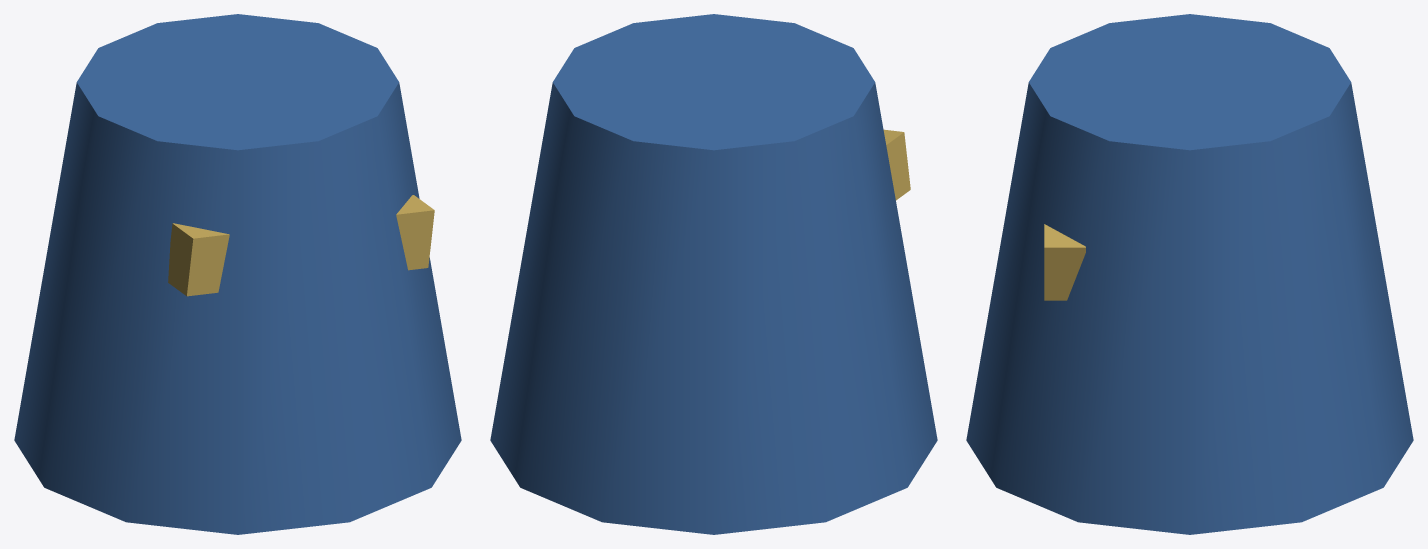
The model's file is stargazer_outfit.glb.
3 renders of one model, left to right at view 1: azimuth 30°, elevation 25°; view 2: azimuth 150°, elevation 25°; view 3: azimuth 270°, elevation 25°, orthographic.
Visible parts, largest first — view 1: outfit_torso, outfit_trim; view 2: outfit_torso, outfit_trim; view 3: outfit_torso, outfit_trim.
Boxes of the visible parts, x1=… form: outfit_torso: x1=14, y1=14, x2=461, y2=534; outfit_trim: x1=168, y1=195, x2=434, y2=296; outfit_torso: x1=490, y1=14, x2=937, y2=534; outfit_trim: x1=883, y1=129, x2=910, y2=200; outfit_torso: x1=966, y1=14, x2=1413, y2=534; outfit_trim: x1=1044, y1=224, x2=1085, y2=300.
Size of the model in its own units: 0.86 by 0.76 by 0.86.
